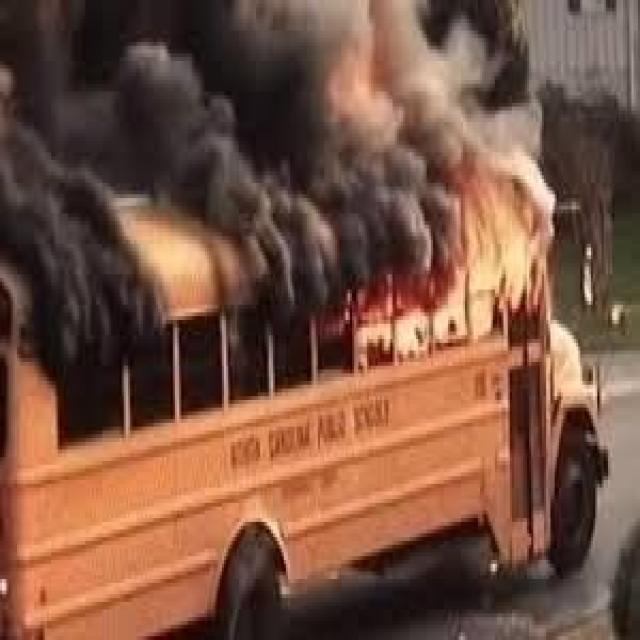fire: (444, 158, 556, 299)
smoke: (0, 0, 452, 301)
